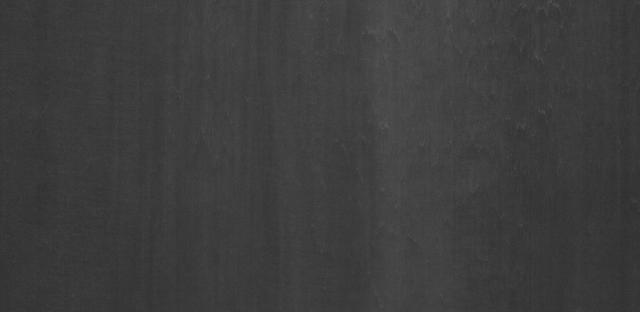silk_spot: (462, 18, 574, 137)
